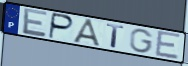A: (71, 18, 103, 49)
E: (154, 29, 182, 61), (22, 7, 49, 38)
G: (130, 28, 155, 55)
P: (47, 12, 75, 41)
T: (105, 23, 126, 50)
